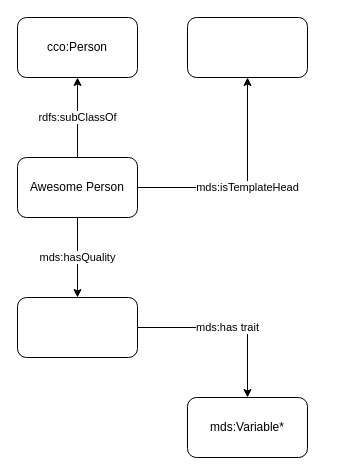
Image size: 340x475. Some labels were removed from this diagram. Each missing label, with the box of its shape:
Awesome Quality: (16, 296, 138, 358)
mds:QualityPersonTemplate: (186, 16, 308, 78)
